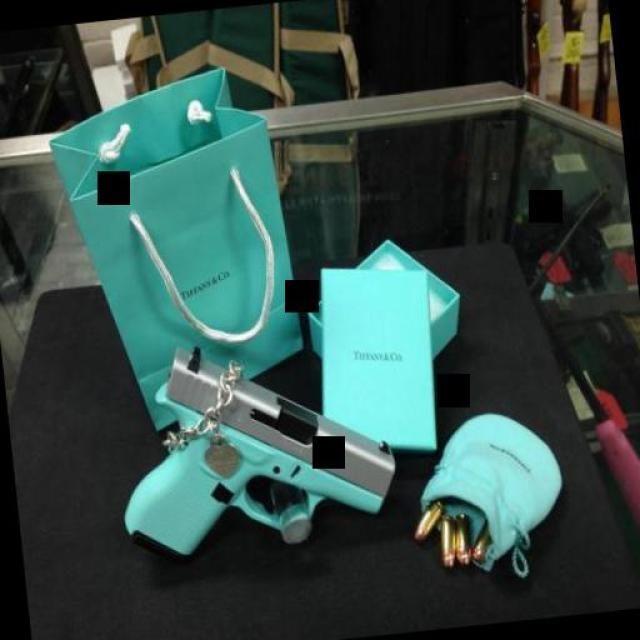gun: (105, 329, 403, 575)
